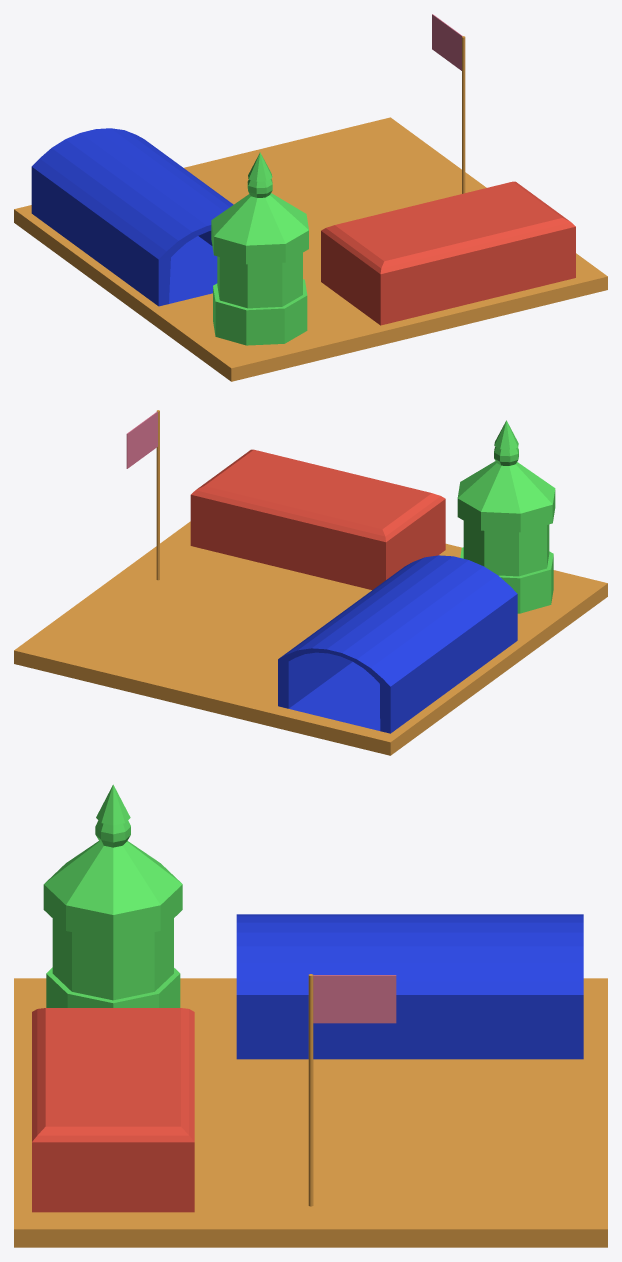
The model's file is TownCenter.fbx.
3 renders of one model, top to bottom at view 1: azimuth 30°, elevation 25°; view 2: azimuth 150°, elevation 25°; view 3: azimuth 270°, elevation 25°, orthographic. The views are drawn at different scales.
Visible parts, largest first — view 1: Cube; view 2: Cube; view 3: Cube.
Part boxes in pixels (bbox=[...]): Cube: bbox=[14, 14, 607, 381]; Cube: bbox=[14, 410, 607, 755]; Cube: bbox=[14, 784, 607, 1247].
Size of the model in its own units: 800 by 380 by 800.
